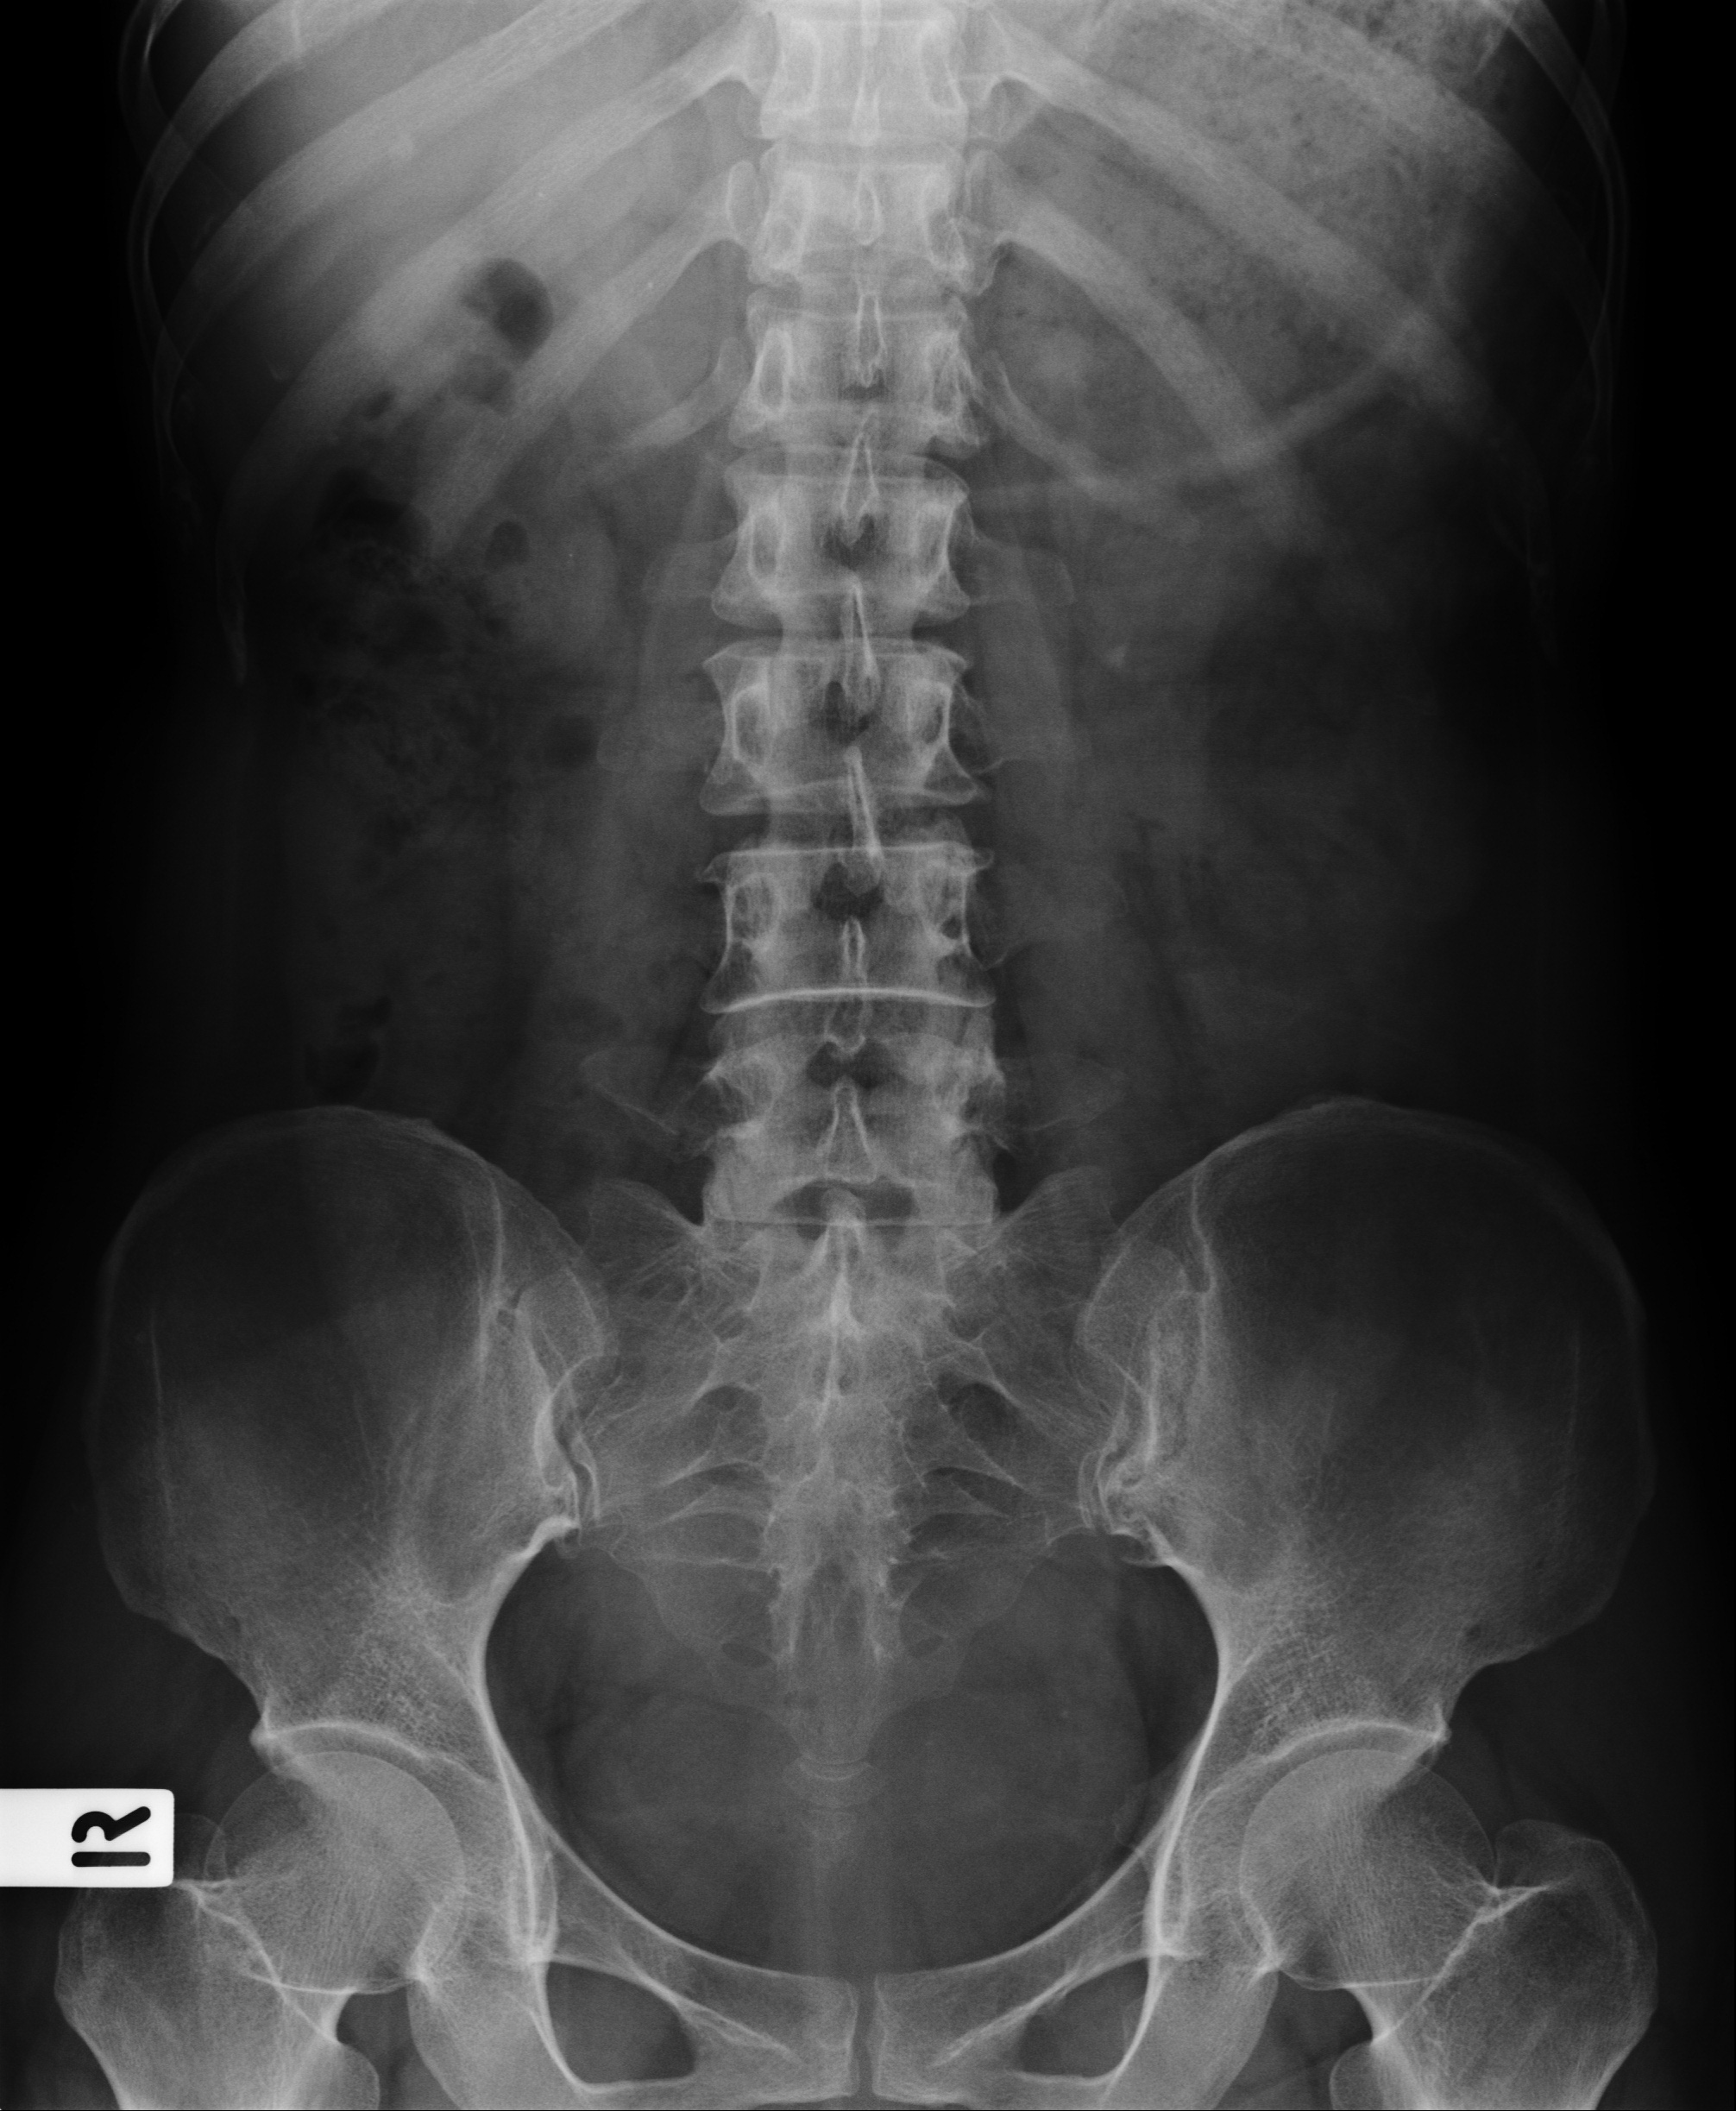lumbar scoliosis: (680, 18, 993, 1413)
